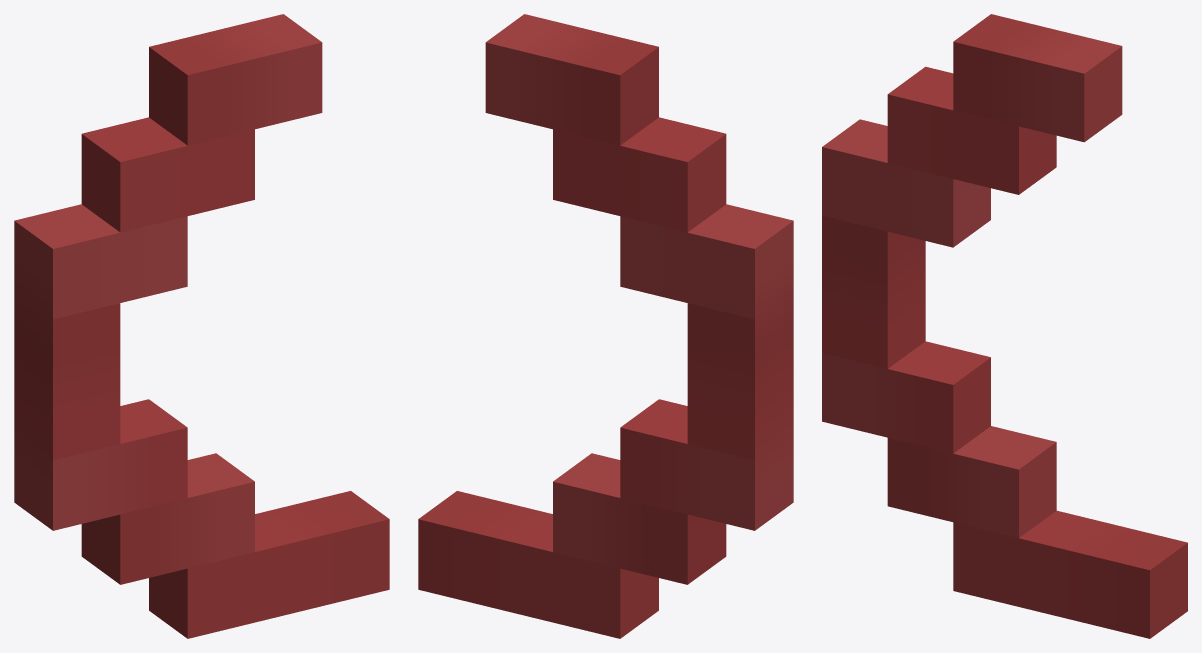
Rendered from Altar_BloodMeter_6.fbx.
3 renders of one model, left to right at view 1: azimuth 30°, elevation 25°; view 2: azimuth 150°, elevation 25°; view 3: azimuth 330°, elevation 25°, orthographic. The views are drawn at different scales.
Visible parts, largest first — view 1: Altar_BloodMeter_6; view 2: Altar_BloodMeter_6; view 3: Altar_BloodMeter_6.
Boxes of the visible parts, <box> form: Altar_BloodMeter_6: <box>14,14,389,638</box>; Altar_BloodMeter_6: <box>418,14,793,638</box>; Altar_BloodMeter_6: <box>822,14,1187,638</box>.
Size of the model in its own units: 5 by 8 by 1.
Materials: 1 (1 with a texture image).
